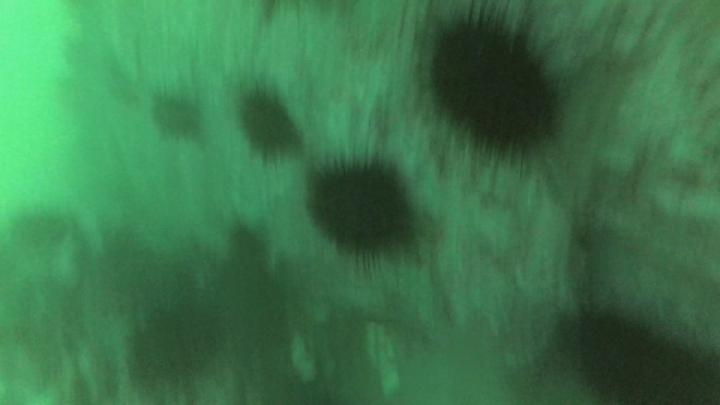echinus: (410, 2, 574, 184), (299, 144, 432, 280), (228, 76, 316, 176), (137, 85, 208, 146)
